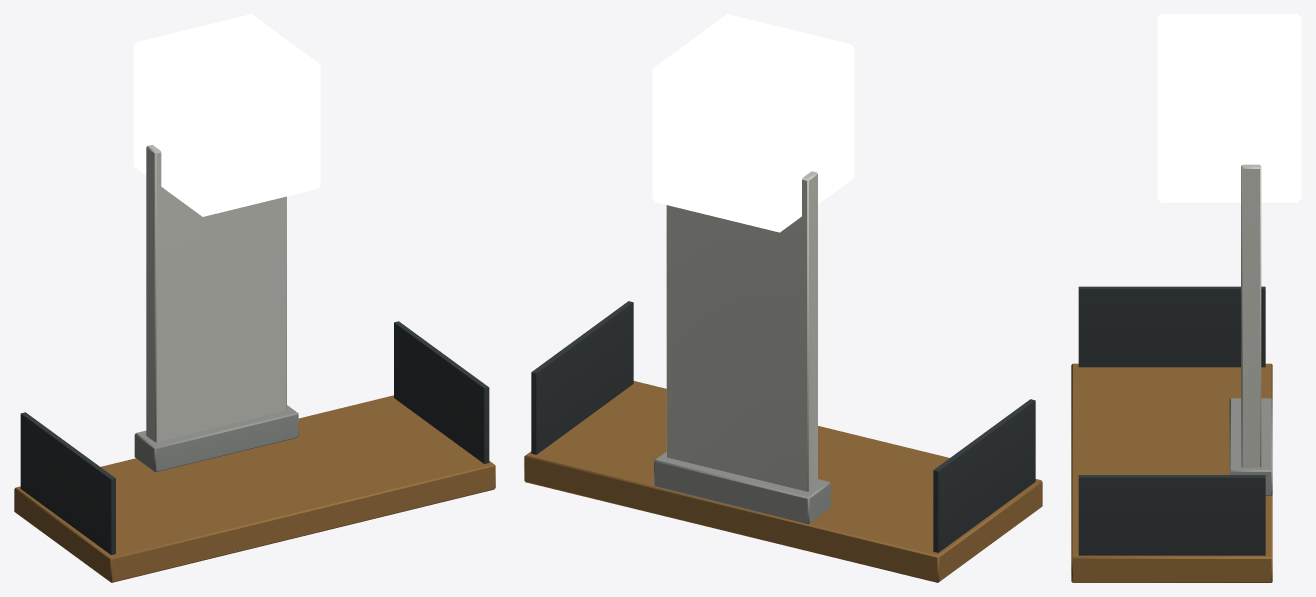
File: ap-checkin-island-head.glb
3 renders of one model, left to right at view 1: azimuth 30°, elevation 25°; view 2: azimuth 150°, elevation 25°; view 3: azimuth 270°, elevation 25°, orthographic. The views are drawn at different scales.
Parts seen in each view (by area): view 1: platform__wood, pylon__paint, letter-cube__led, kiosk-rail__steel; view 2: pylon__paint, letter-cube__led, platform__wood, kiosk-rail__steel; view 3: kiosk-rail__steel, letter-cube__led, platform__wood, pylon__paint.
Part boxes in pixels (<box>): platform__wood: <box>14,395,495,582</box>; pylon__paint: <box>134,144,298,472</box>; letter-cube__led: <box>133,14,320,216</box>; kiosk-rail__steel: <box>20,321,489,554</box>; pylon__paint: <box>654,171,830,523</box>; letter-cube__led: <box>652,14,854,232</box>; platform__wood: <box>524,381,1042,582</box>; kiosk-rail__steel: <box>531,301,1035,552</box>; kiosk-rail__steel: <box>1078,286,1265,555</box>; letter-cube__led: <box>1157,14,1301,202</box>; platform__wood: <box>1071,363,1272,582</box>; pylon__paint: <box>1229,164,1272,495</box>.
Size of the model in its own units: 3.2 by 3.4 by 1.6.
